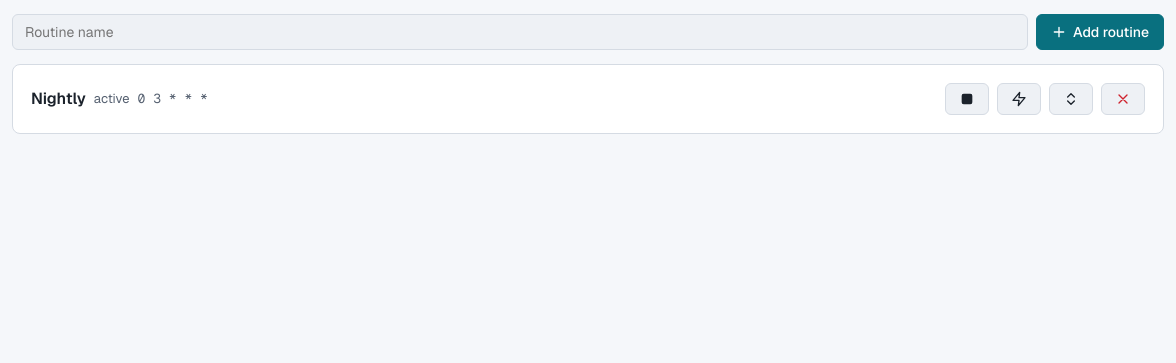
it: RoutineManager › zeigt Englisch
Check: the text "active" is shown, box 94,89 -> 130,109
Click the button named "Show actions". click: (1071, 99)
box: 1049,83 -> 1093,115
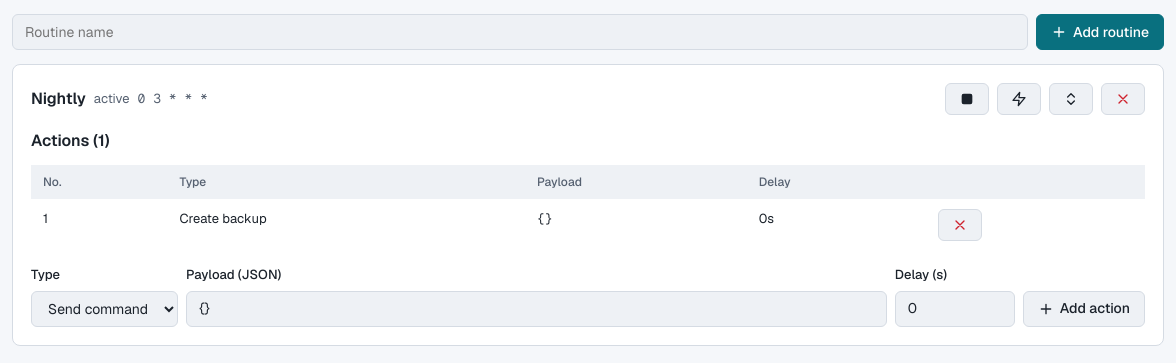
Check: the text "Create backup" is shown 2 times
Check: the column heading "Type" is shown, box 167,165 -> 525,199
